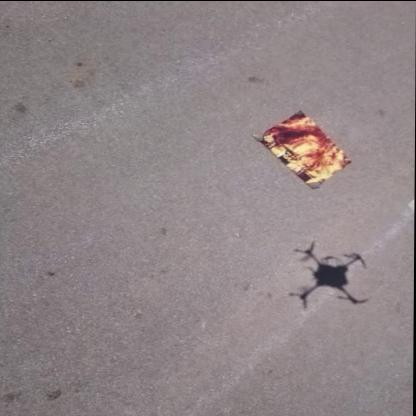fire-poster: (251, 108, 355, 190)
